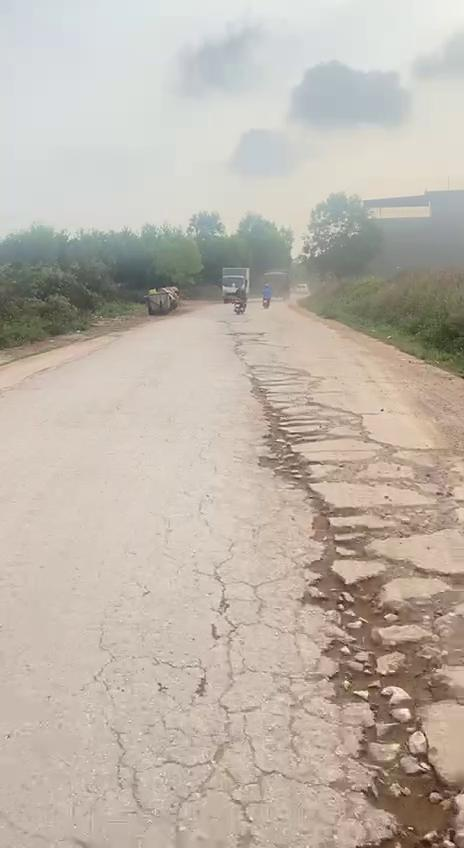pothole: (303, 549, 464, 848), (257, 406, 451, 545)
